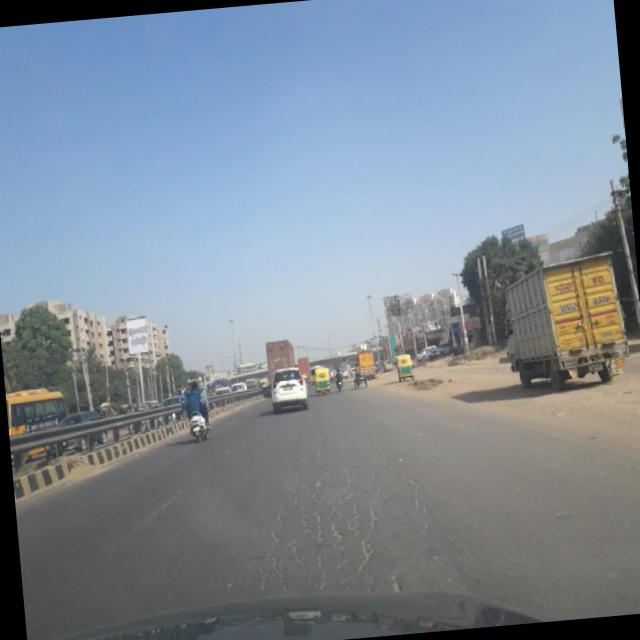crack: (224, 440, 449, 610)
